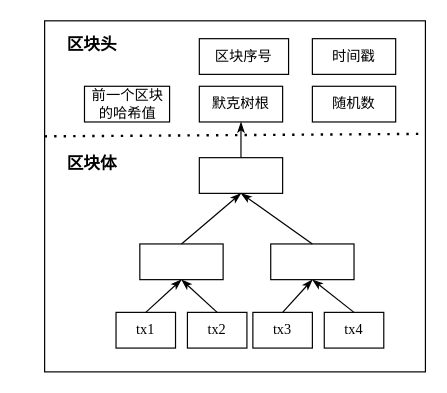
Some shapes in this 447 by 393 pixel diagram are drawn without their labels. Here are the shapes that lost their labels. From the top down, the centre of each, then its label:
At (240,174): "hash_1234".
At (181,261): "hash_12".
At (312,261): "hash_34".
